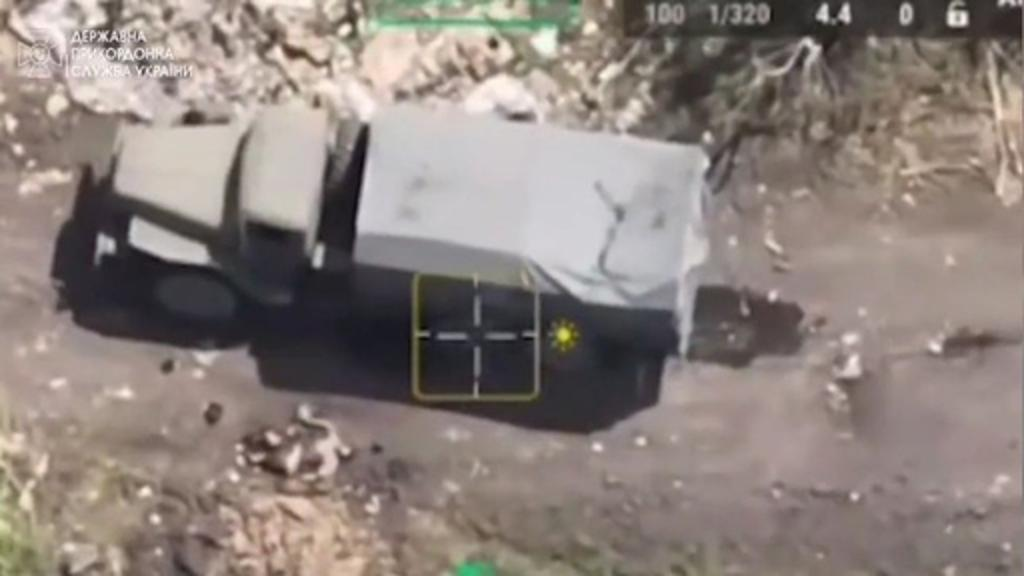TRUCK: (82, 82, 712, 412)
